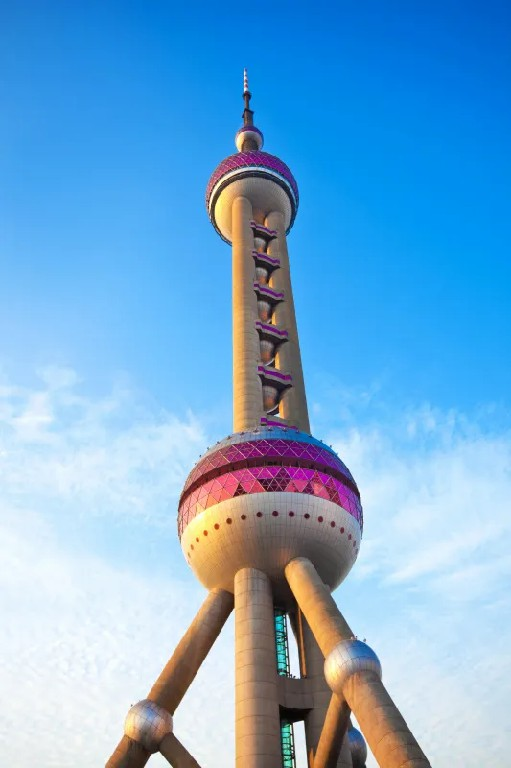Oriental: (104, 69, 432, 768)
